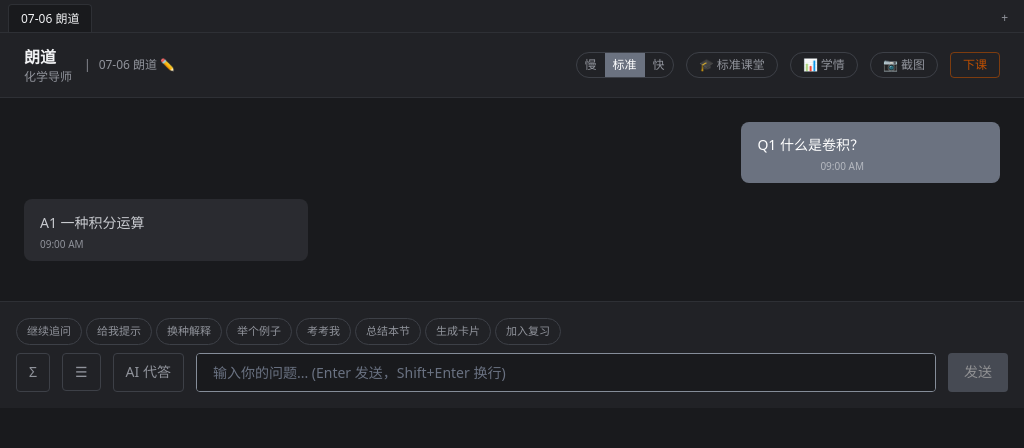
Test: ClassroomView — tabs and shortcuts › searches the conversation with Ctrl+F and closes with Escape
Check: the text "A1 一种积分运算" is shown, box x1=40 y1=211 x2=145 y2=235
Press f
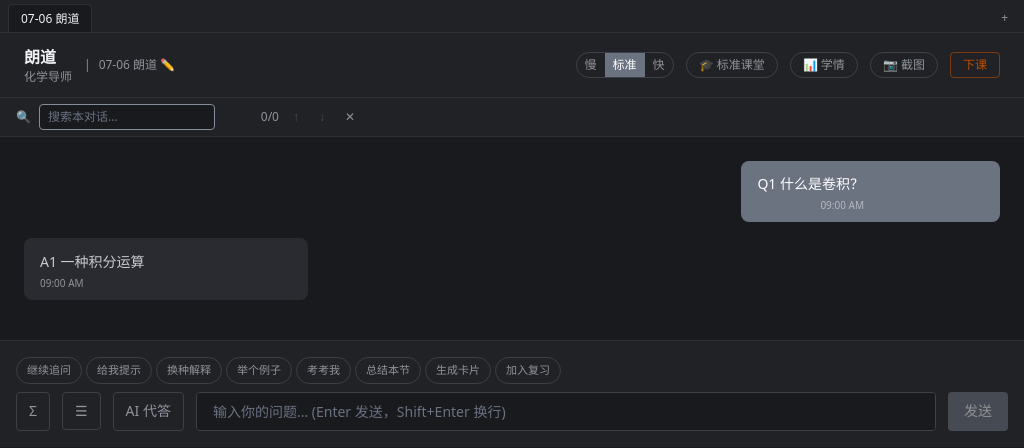
Type "Q1" into the field with placeholder "搜索本对话..." at (127, 117), box x1=39 y1=104 x2=215 y2=130
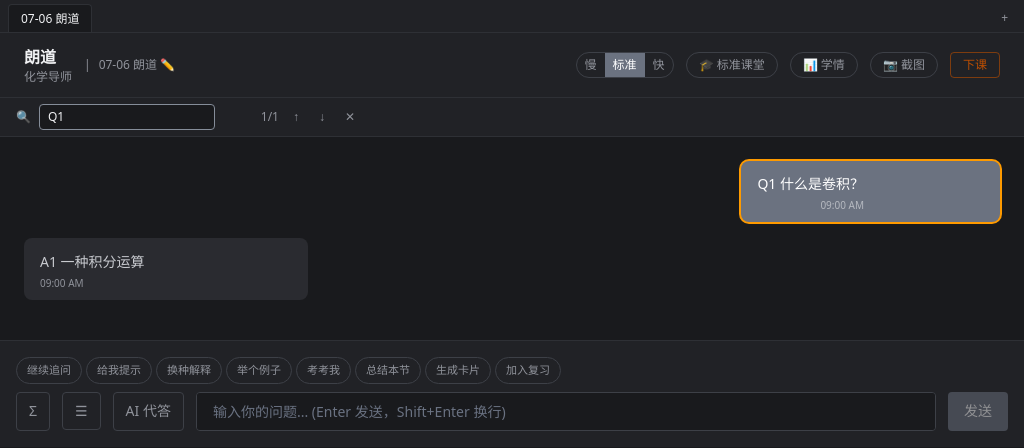
Check: the text "1/1" is shown, box x1=261 y1=108 x2=279 y2=125
Replace the text in the field with placeholder "搜索本对话..." with "1" at (127, 117), box x1=39 y1=104 x2=215 y2=130
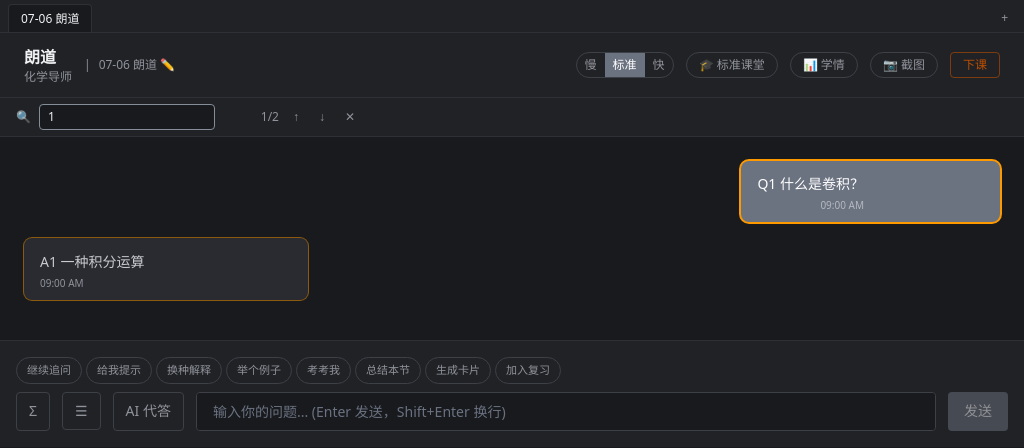
Check: the text "1/2" is shown, box x1=261 y1=108 x2=279 y2=125
Press Enter in the field with placeholder "搜索本对话...", box x1=39 y1=104 x2=215 y2=130
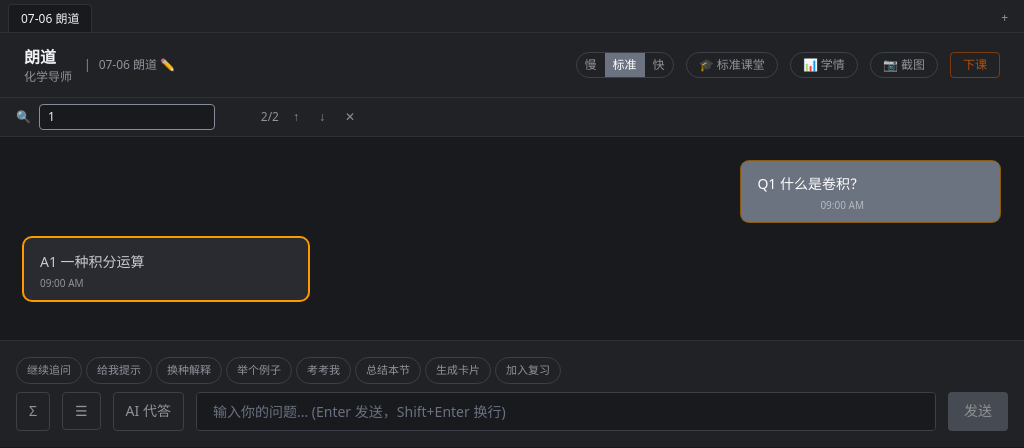
Check: the text "2/2" is shown, box x1=261 y1=108 x2=279 y2=125
Press Escape
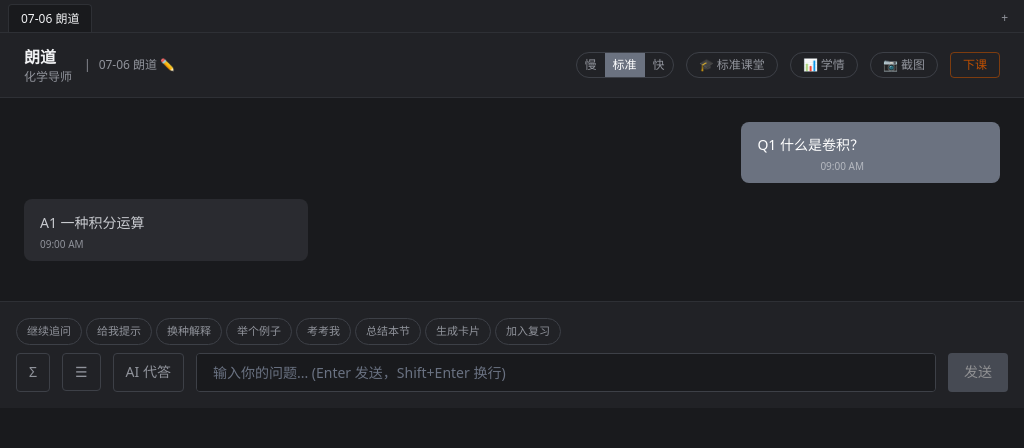
Check: the field with placeholder "搜索本对话..." is gone
